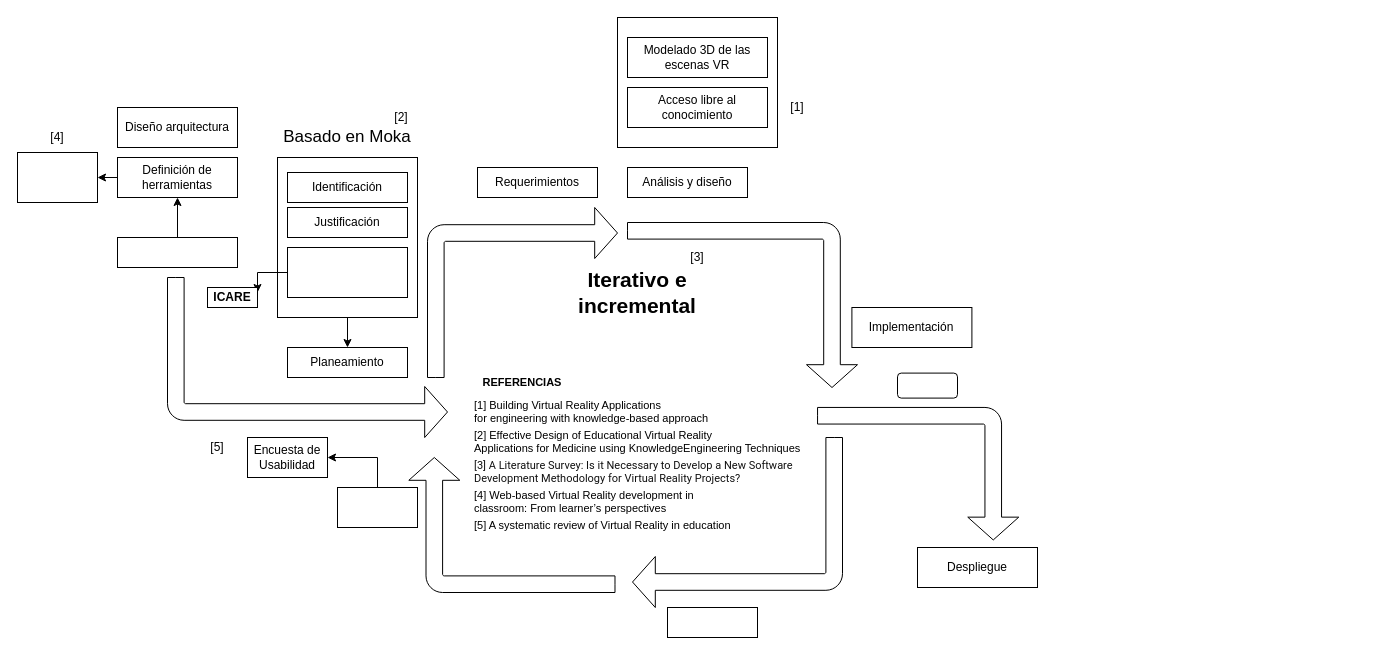
This 1400x655 diagram has some shape labels left out. Here are the shapes that lost their labels. From the top down, the box of each, then its label:
(16, 152, 98, 202): WebVR AWS Sumerian
(116, 236, 238, 268): Planeamiento inicial
(286, 246, 408, 298): Adquisición y formalización de conocimiento
(896, 372, 958, 398): CI -CD
(336, 486, 418, 528): Evaluación
(666, 606, 758, 638): Prueba
